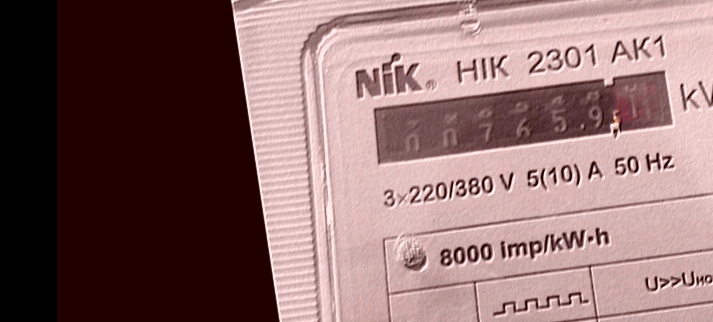0: (440, 123, 463, 151), (403, 128, 424, 156)
1: (626, 89, 645, 123)
5: (548, 104, 574, 134)
6: (513, 113, 535, 140)
7: (476, 119, 500, 146)
9: (586, 101, 608, 131)
screen: (360, 50, 688, 187)
